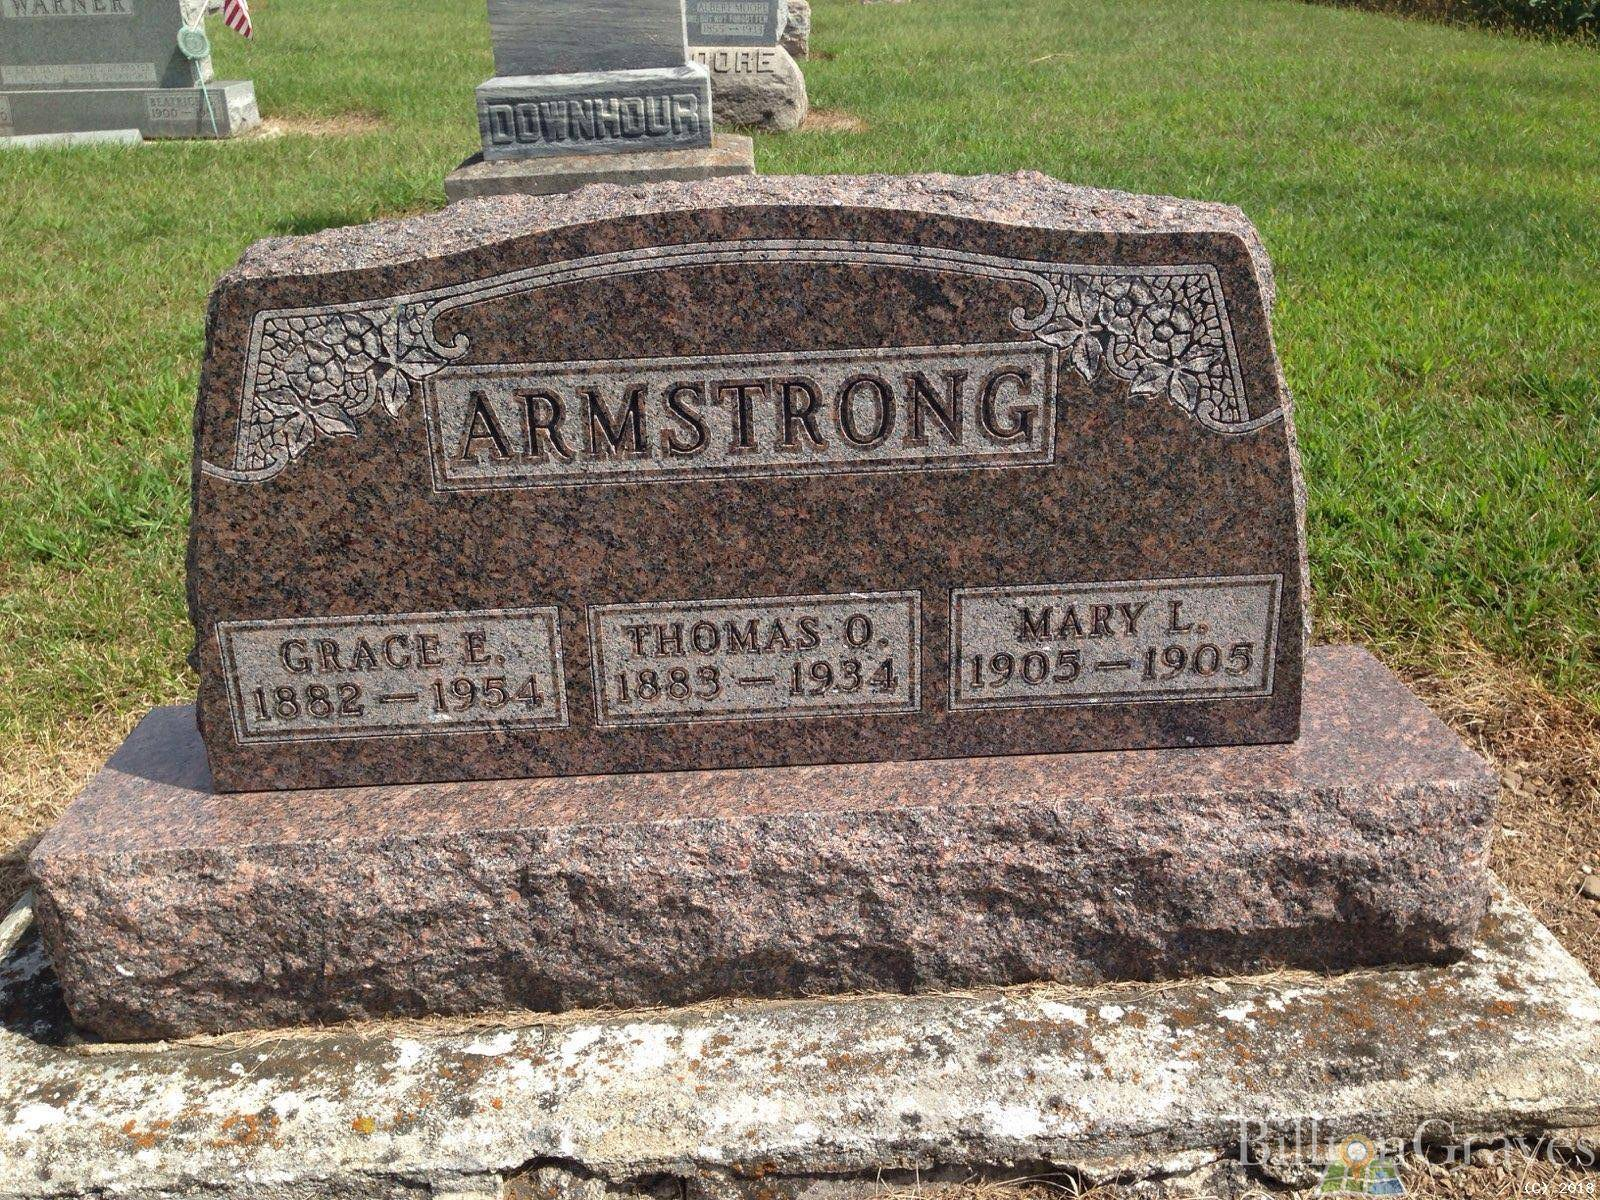upright: (31, 173, 1492, 1039)
